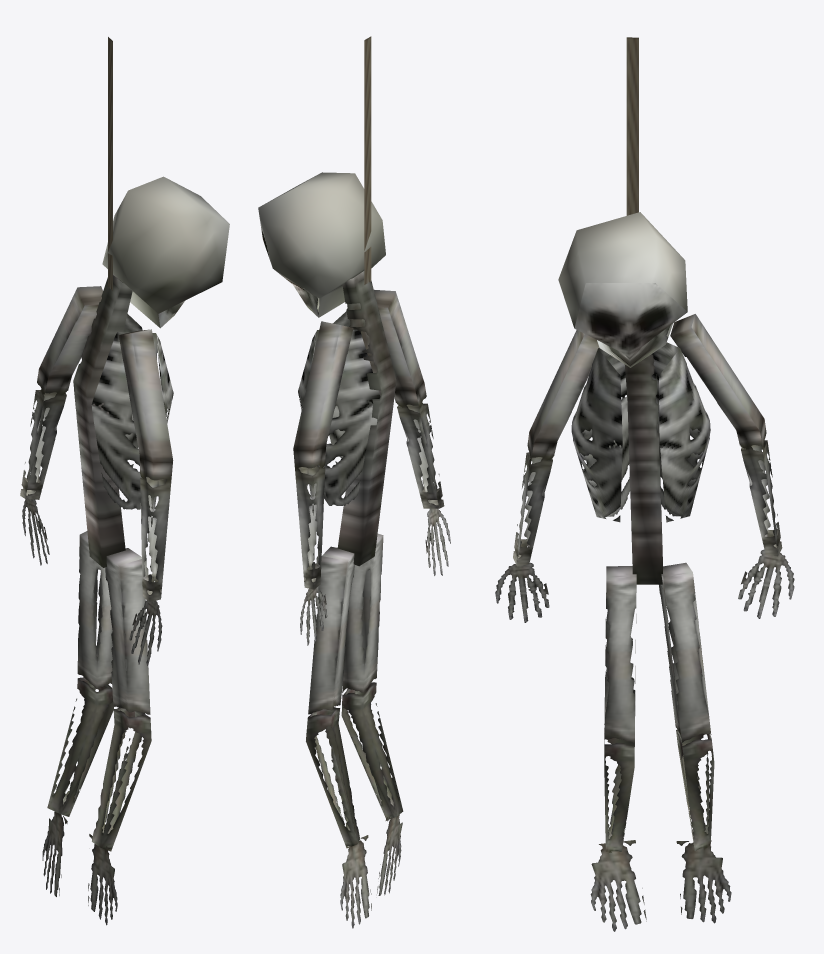
Rendered from skeleton.obj.
The picture shows the model from 3 angles, left to right: view 1: azimuth 30°, elevation 25°; view 2: azimuth 150°, elevation 25°; view 3: azimuth 270°, elevation 25°; orthographic projection. The views are drawn at different scales.
Visible parts, largest first — view 1: Skeleton_Sphere; view 2: Skeleton_Sphere; view 3: Skeleton_Sphere.
Part boxes in pixels (box(x1,y1,x2,y2)): Skeleton_Sphere: box(20, 37, 229, 925); Skeleton_Sphere: box(258, 36, 450, 928); Skeleton_Sphere: box(495, 37, 794, 931).
Bounding box in the file's own units: 0.4714 × 2.97 × 0.9416.
1 material, 1 textured.
